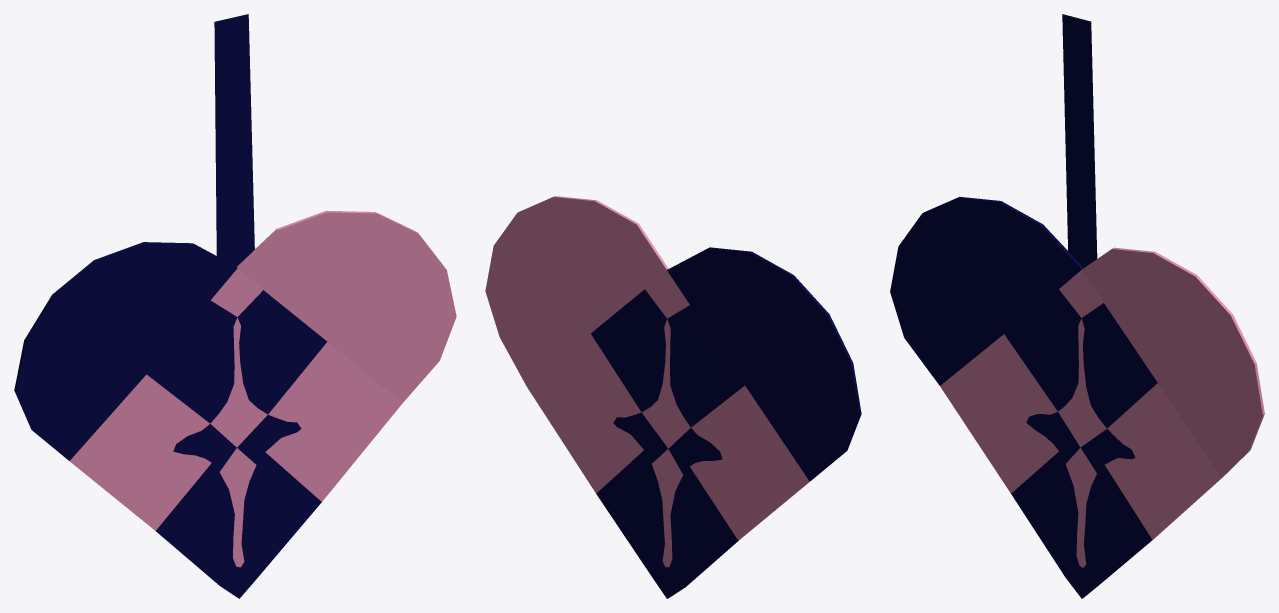
File: heart14.glb
3 renders of one model, left to right at view 1: azimuth 30°, elevation 25°; view 2: azimuth 150°, elevation 25°; view 3: azimuth 330°, elevation 25°, orthographic.
Visible parts, largest first — view 1: heart14; view 2: heart14; view 3: heart14.
Boxes of the visible parts, x1,y1,x2,y2 form: heart14: (14, 14, 456, 598); heart14: (485, 196, 861, 598); heart14: (890, 14, 1264, 598).
Size of the model in its own units: 0.1353 by 0.1845 by 0.02.
